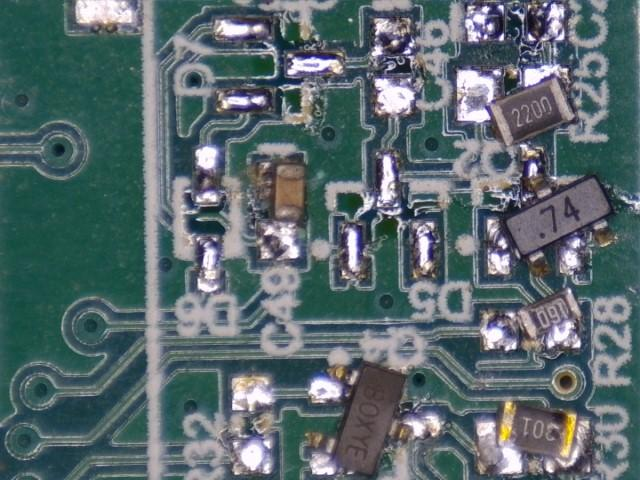Incorrect_installation: (487, 147, 617, 280), (306, 363, 443, 478), (457, 68, 577, 150), (477, 402, 592, 477), (482, 286, 584, 351), (256, 163, 309, 262)
